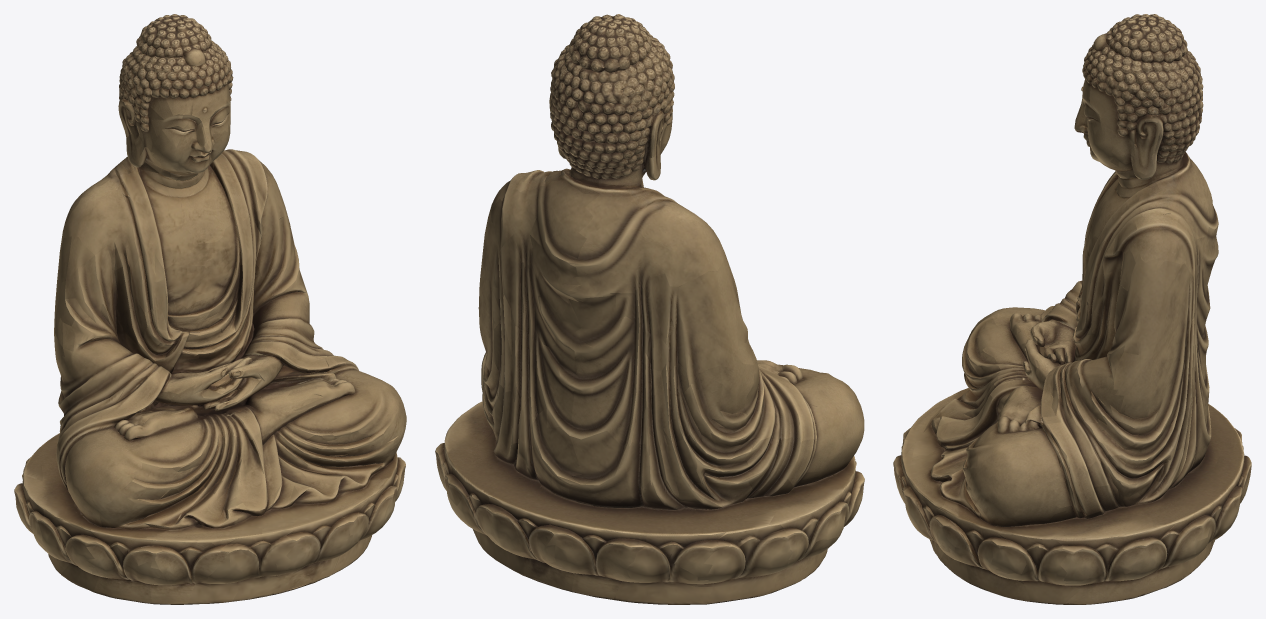
The model's file is Meshy_AI_Korean_style_seated_A_1116074202_texture.glb.
3 views of the same model, side by side, from view 1: azimuth 30°, elevation 25°; view 2: azimuth 150°, elevation 25°; view 3: azimuth 270°, elevation 25° (orthographic). The views are drawn at different scales.
Visible parts, largest first — view 1: output_unwrapped; view 2: output_unwrapped; view 3: output_unwrapped.
Part boxes in pixels (<box>): output_unwrapped: <box>14,14,406,604</box>; output_unwrapped: <box>435,14,864,604</box>; output_unwrapped: <box>893,14,1251,604</box>.
Size of the model in its own units: 1.39 by 1.9 by 1.2.
1 material, 1 textured.
